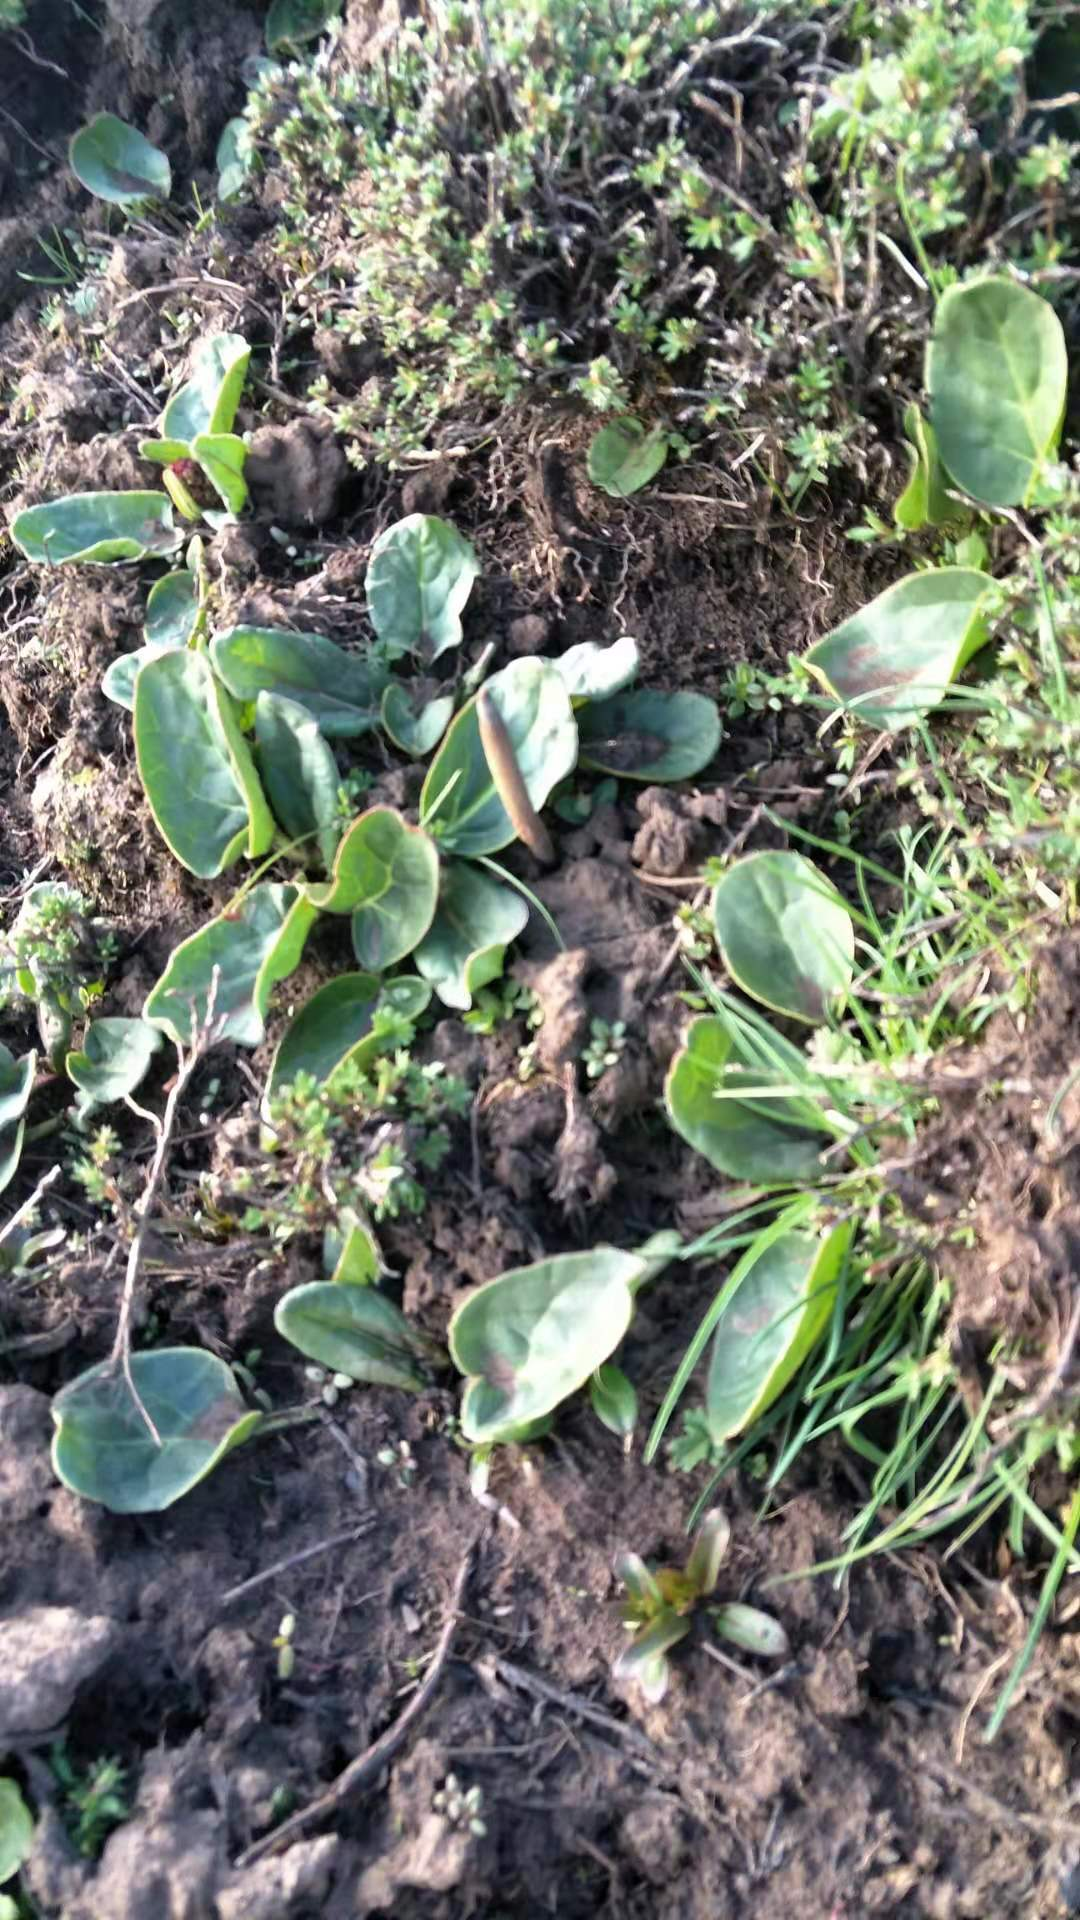cpf: (467, 686, 567, 878)
